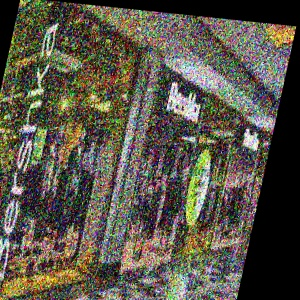bershka: (17, 51, 285, 178), (110, 39, 290, 118), (48, 11, 80, 33)
